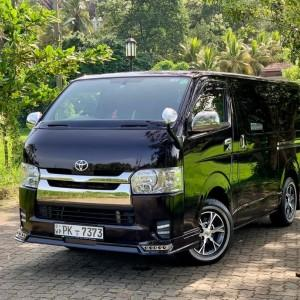van: (15, 70, 300, 265)
